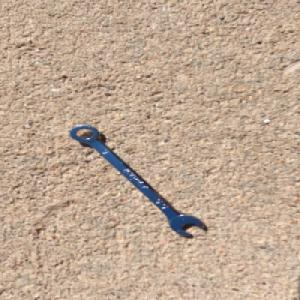Wrench: (68, 124, 205, 237)
